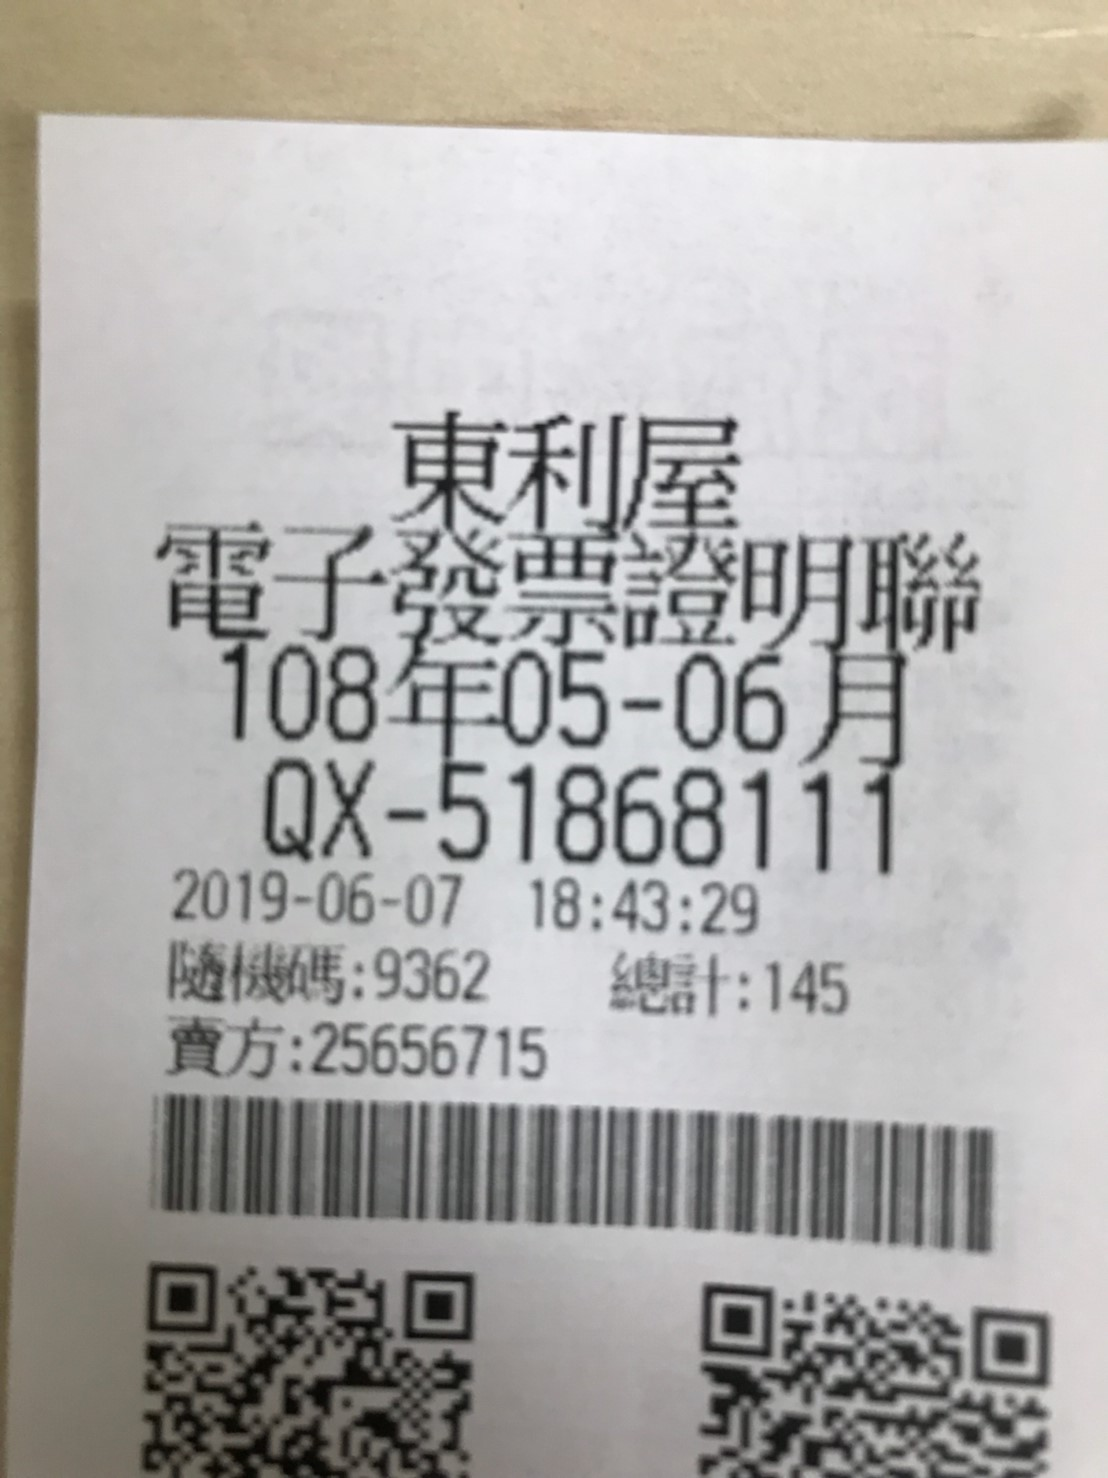Date_New: (214, 644, 911, 770)
Number_New: (435, 753, 911, 881)
